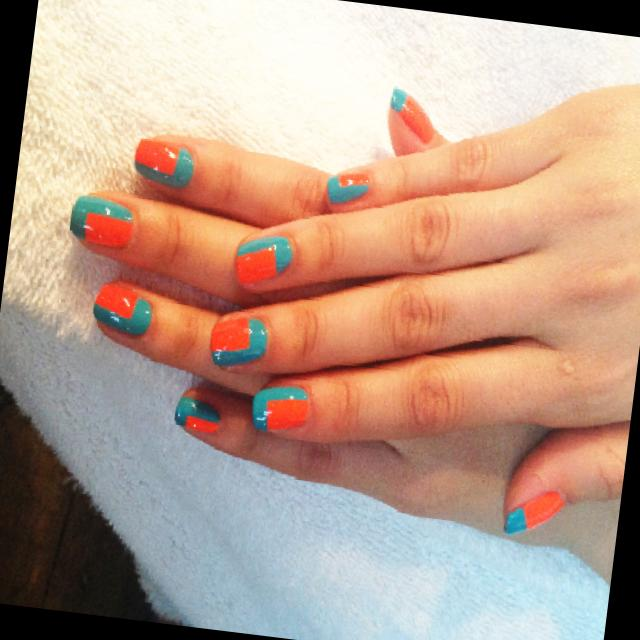Nail: (70, 195, 132, 246), (93, 284, 151, 335), (134, 138, 193, 187), (209, 318, 266, 365), (250, 387, 309, 430), (235, 236, 290, 281), (505, 491, 562, 533), (390, 90, 434, 141), (174, 396, 219, 432), (326, 173, 368, 203)
